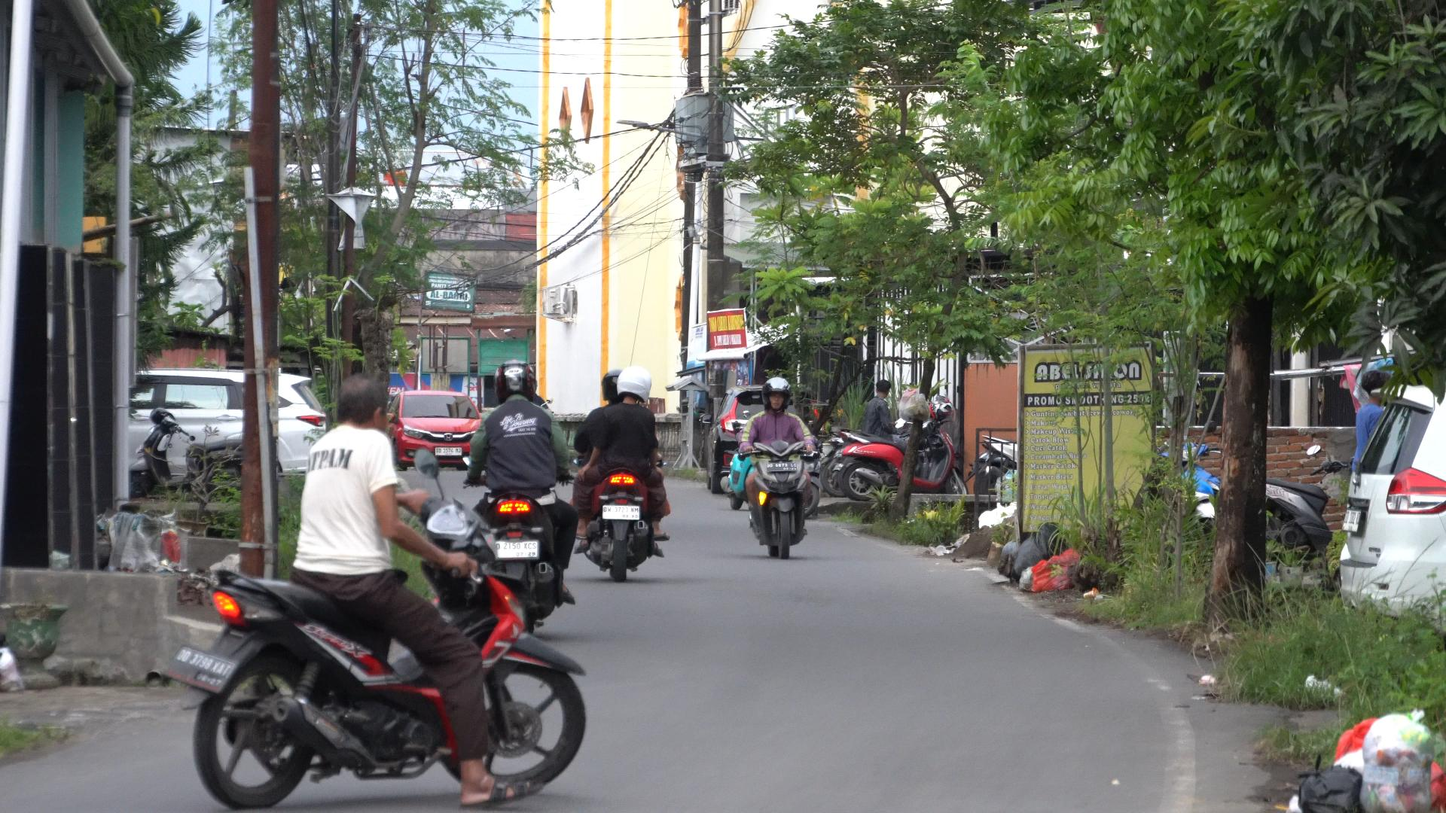number-plate: (765, 460, 798, 472)
